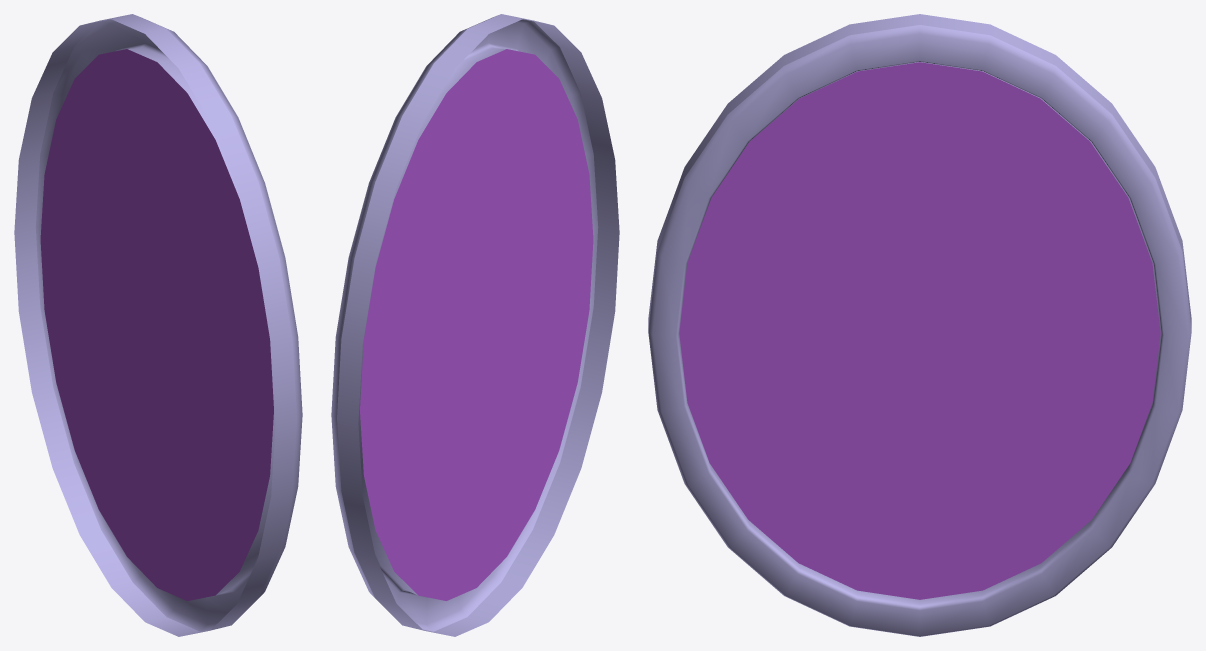
File: Friday_AbbyMirror.fbx
The picture shows the model from 3 angles, left to right: view 1: azimuth 30°, elevation 25°; view 2: azimuth 150°, elevation 25°; view 3: azimuth 270°, elevation 25°; orthographic projection. The views are drawn at different scales.
Parts seen in each view (by area): view 1: Mirror, Frame; view 2: Mirror, Frame; view 3: Mirror, Frame.
Part boxes in pixels (box(x1,y1,x2,y2)): Mirror: box(40, 49, 273, 600); Frame: box(14, 14, 302, 636); Mirror: box(360, 49, 593, 600); Frame: box(331, 14, 619, 636); Mirror: box(679, 62, 1160, 599); Frame: box(648, 14, 1191, 636).
Size of the model in its own units: 17.59 by 319 by 257.
